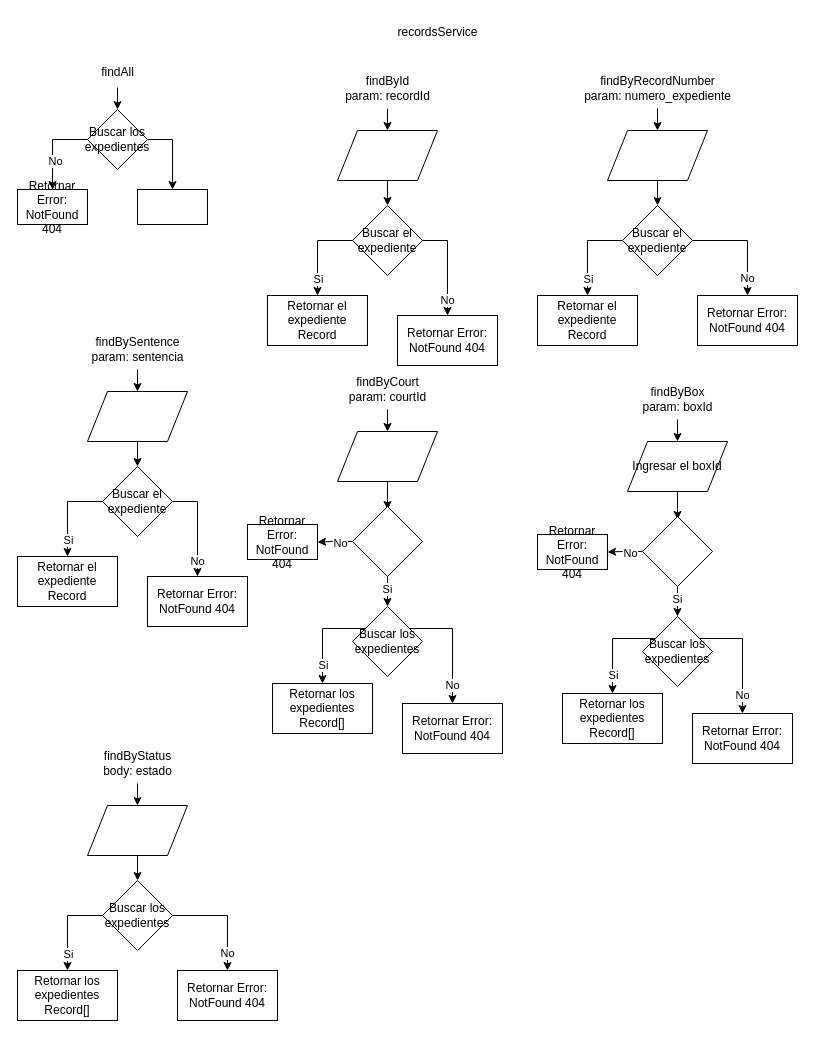
This 815x1038 diagram has some shape labels left out. The shapes that lost their labels are listed below. From the top down, each one's centre as x and y in pixels, then its label:
At (387,155): "Ingresar el recordId".
At (657,155): "Ingresar el numero_expediente".
At (172,206): "Retornar los expedientes: Record[]".
At (137,416): "Ingresar la sentencia".
At (387,456): "Ingresar el courtId".
At (387,541): "Buscar el tribunal".
At (677,551): "Buscar la caja".
At (137,830): "Ingresar el estado".
